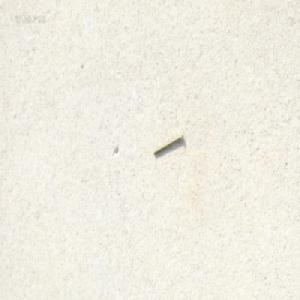Bolt: (152, 130, 183, 155)
